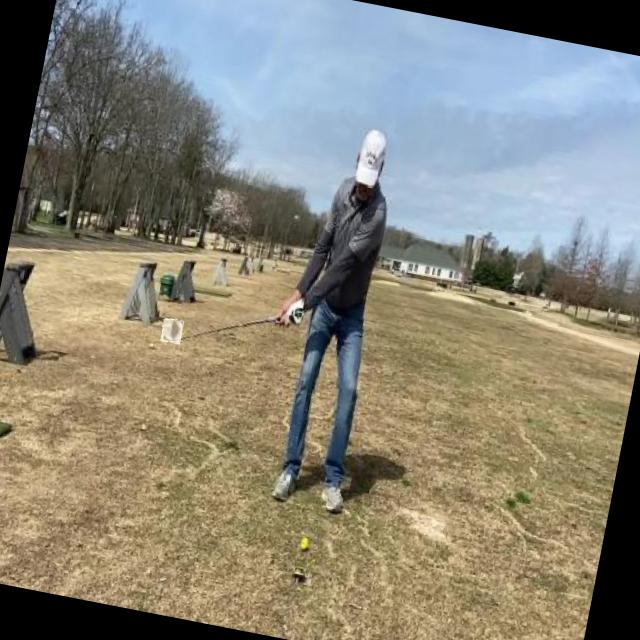club head: (160, 318, 184, 344)
